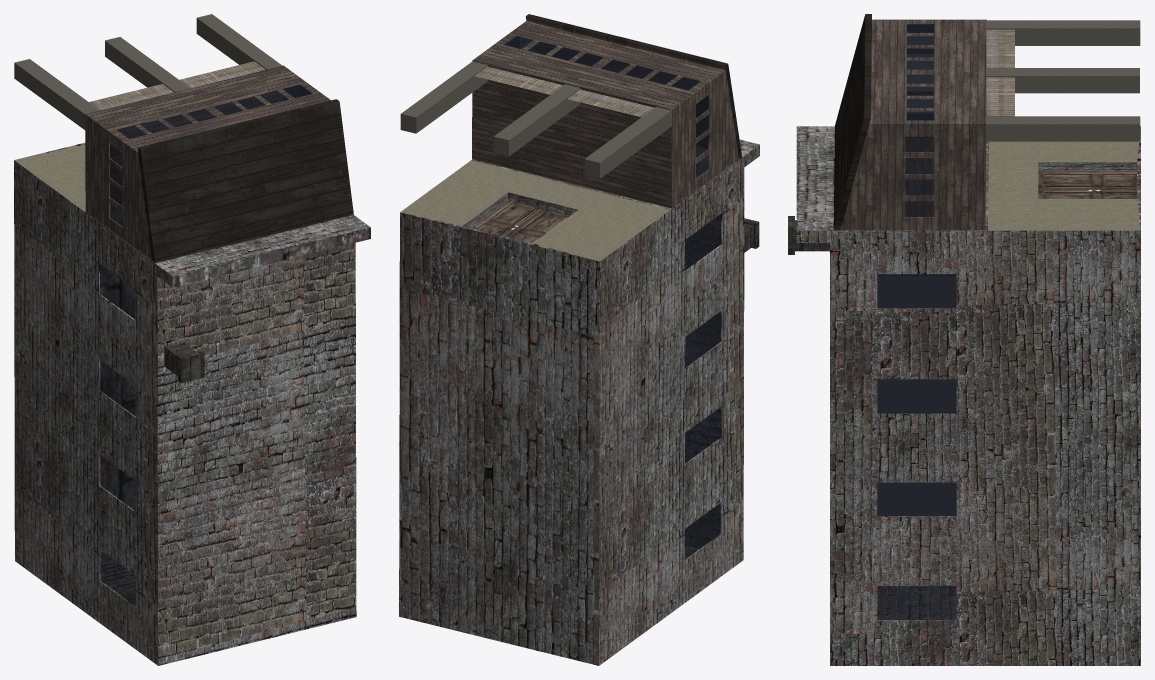
File: GDB_low_rotated.glb
3 renders of one model, left to right at view 1: azimuth 30°, elevation 25°; view 2: azimuth 150°, elevation 25°; view 3: azimuth 270°, elevation 25°, orthographic. The views are drawn at different scales.
Parts seen in each view (by area): view 1: main-building, front-box, pillar1, Plane.004, main-building.001, Plane.001, Plane, Cube.003, Plane.003; view 2: main-building, front-box, main-building.001, pillar1, Plane.004, Plane.005, Plane, Plane.001, Plane.003; view 3: main-building, front-box, pillar1, Plane.004, main-building.001, Plane.005, Plane, Plane.001, Plane.002, Plane.003, Cube.003.
Part boxes in pixels (x1=…): main-building: x1=14, y1=142, x2=370, y2=665; front-box: x1=85, y1=65, x2=353, y2=262; pillar1: x1=14, y1=14, x2=281, y2=129; Plane.004: x1=100, y1=263, x2=136, y2=606; main-building.001: x1=14, y1=144, x2=85, y2=211; Plane.001: x1=117, y1=84, x2=311, y2=138; Plane: x1=89, y1=61, x2=265, y2=110; Cube.003: x1=164, y1=342, x2=204, y2=383; Plane.003: x1=110, y1=144, x2=122, y2=226; main-building: x1=399, y1=139, x2=759, y2=665; front-box: x1=472, y1=14, x2=741, y2=208; main-building.001: x1=400, y1=160, x2=669, y2=261; pillar1: x1=400, y1=61, x2=671, y2=178; Plane.004: x1=684, y1=214, x2=721, y2=559; Plane.005: x1=471, y1=200, x2=569, y2=243; Plane: x1=475, y1=66, x2=654, y2=117; Plane.001: x1=504, y1=36, x2=700, y2=90; Plane.003: x1=696, y1=95, x2=708, y2=177; main-building: x1=796, y1=126, x2=1140, y2=665; front-box: x1=833, y1=14, x2=986, y2=230; pillar1: x1=985, y1=20, x2=1140, y2=141; Plane.004: x1=877, y1=274, x2=956, y2=619; main-building.001: x1=988, y1=126, x2=1140, y2=230; Plane.005: x1=1038, y1=170, x2=1136, y2=198; Plane: x1=986, y1=29, x2=1014, y2=116; Plane.001: x1=906, y1=24, x2=934, y2=120; Plane.002: x1=905, y1=138, x2=934, y2=216; Plane.003: x1=907, y1=25, x2=933, y2=119; Cube.003: x1=788, y1=216, x2=829, y2=254.
Size of the model in its own units: 2.01 by 4.87 by 2.84.
Materials: 9 (8 with a texture image).
